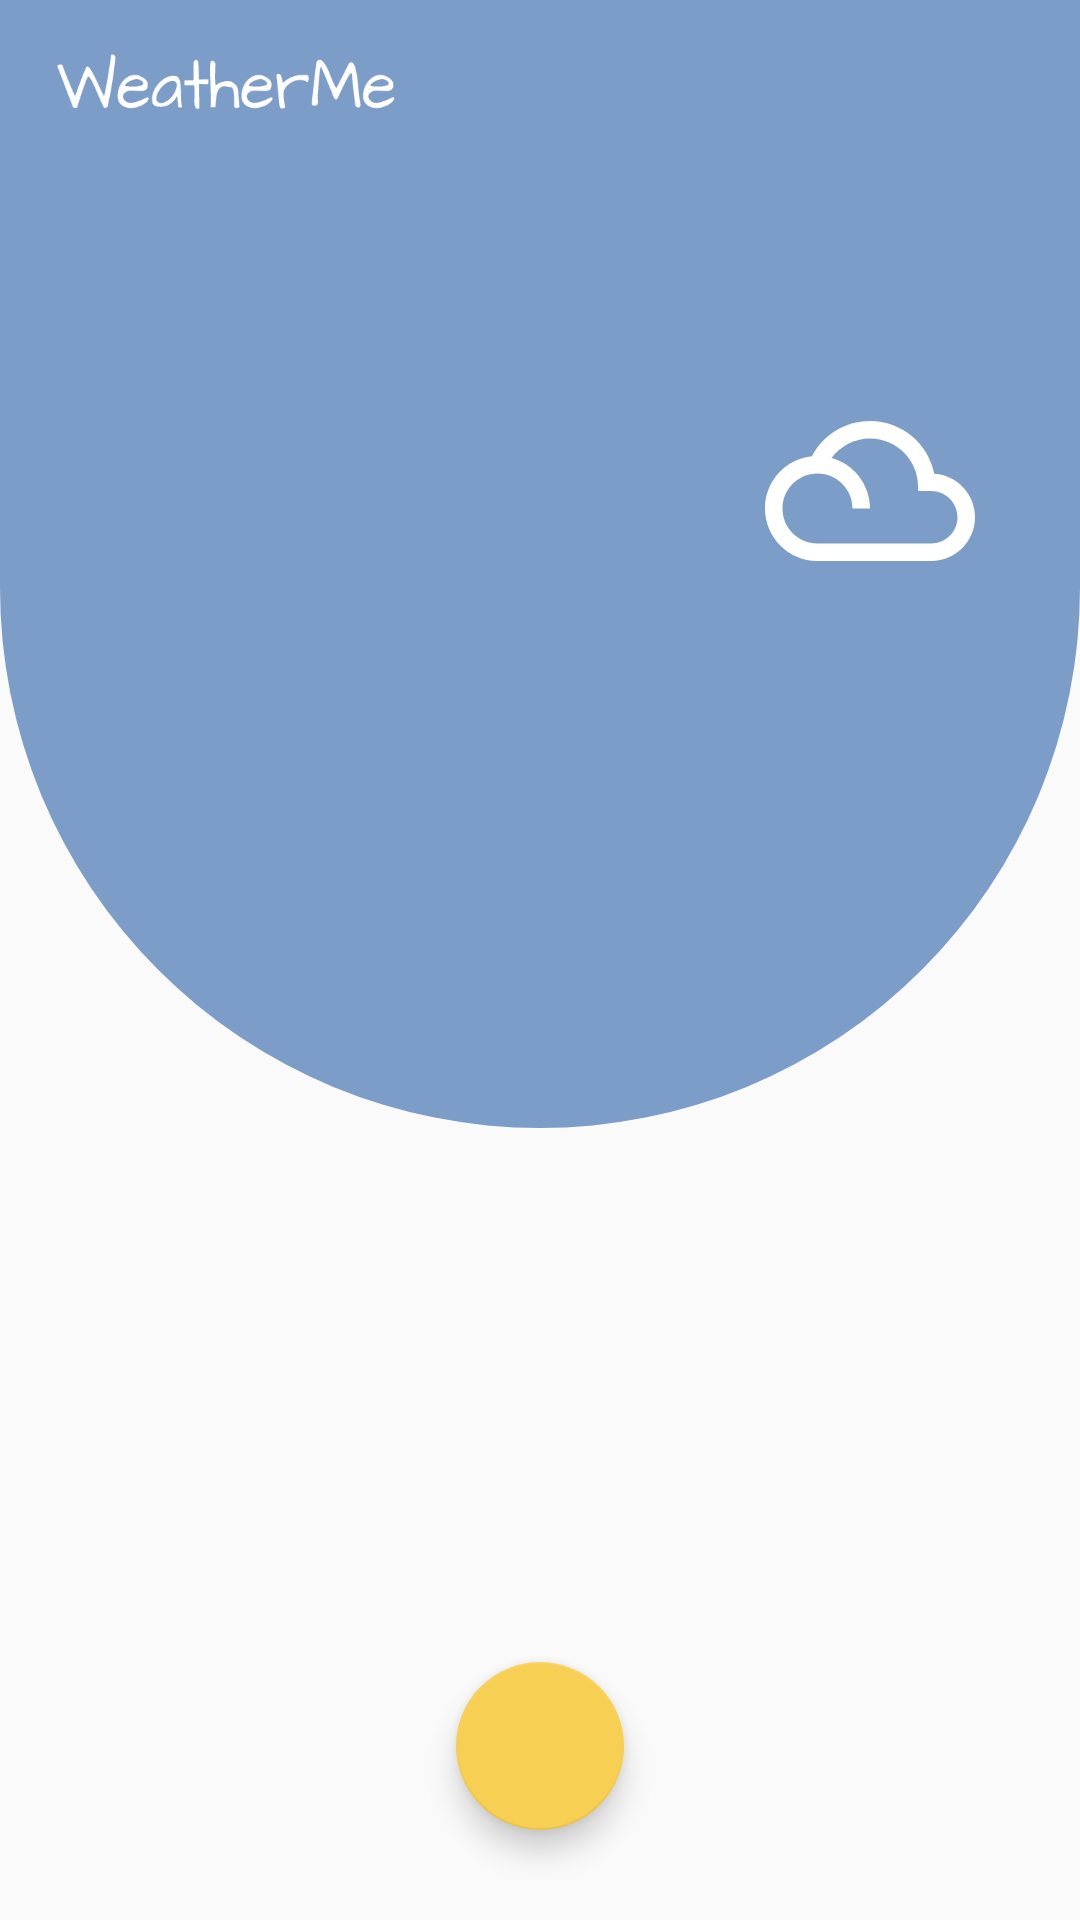

Icon bounding boxes for this 1080*1920 phone screenshot, format BBox(x1, y1, x2, y2):
weather: BBox(765, 421, 975, 561)
